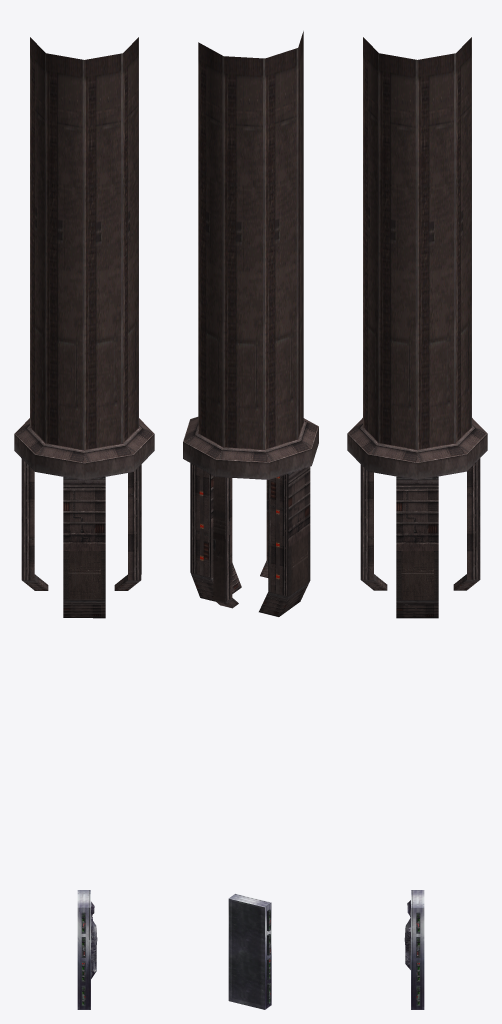
The model's file is bes2_carbon_forklift.glb.
The picture shows the model from 3 angles, left to right: view 1: azimuth 90°, elevation 25°; view 2: azimuth 150°, elevation 25°; view 3: azimuth 270°, elevation 25°; orthographic projection.
Parts seen in each view (by area): view 1: mesh_part1, mesh_part5, mesh_part3, mesh_part11, mesh_part2, mesh_part6; view 2: mesh_part1, mesh_part5, mesh_part11, mesh_part4, mesh_part3, mesh_part2; view 3: mesh_part1, mesh_part4, mesh_part3, mesh_part2, mesh_part11, mesh_part6.
Boxes of the visible parts, x1=… form: mesh_part1: x1=14, y1=37, x2=154, y2=480; mesh_part5: x1=63, y1=477, x2=105, y2=618; mesh_part3: x1=21, y1=459, x2=48, y2=590; mesh_part11: x1=77, y1=890, x2=97, y2=1009; mesh_part2: x1=114, y1=464, x2=141, y2=590; mesh_part6: x1=81, y1=913, x2=85, y2=1006; mesh_part1: x1=183, y1=31, x2=318, y2=479; mesh_part5: x1=259, y1=467, x2=310, y2=616; mesh_part11: x1=228, y1=893, x2=271, y2=1009; mesh_part4: x1=190, y1=463, x2=241, y2=601; mesh_part3: x1=213, y1=476, x2=238, y2=608; mesh_part2: x1=260, y1=480, x2=268, y2=577; mesh_part1: x1=347, y1=37, x2=487, y2=479; mesh_part4: x1=396, y1=476, x2=438, y2=618; mesh_part3: x1=453, y1=458, x2=480, y2=590; mesh_part2: x1=360, y1=464, x2=387, y2=590; mesh_part11: x1=404, y1=890, x2=424, y2=1009; mesh_part6: x1=416, y1=913, x2=420, y2=1006.
Bounding box in the file's own units: 2.58 × 19.57 × 2.58.
Materials: 7 (7 with a texture image).
